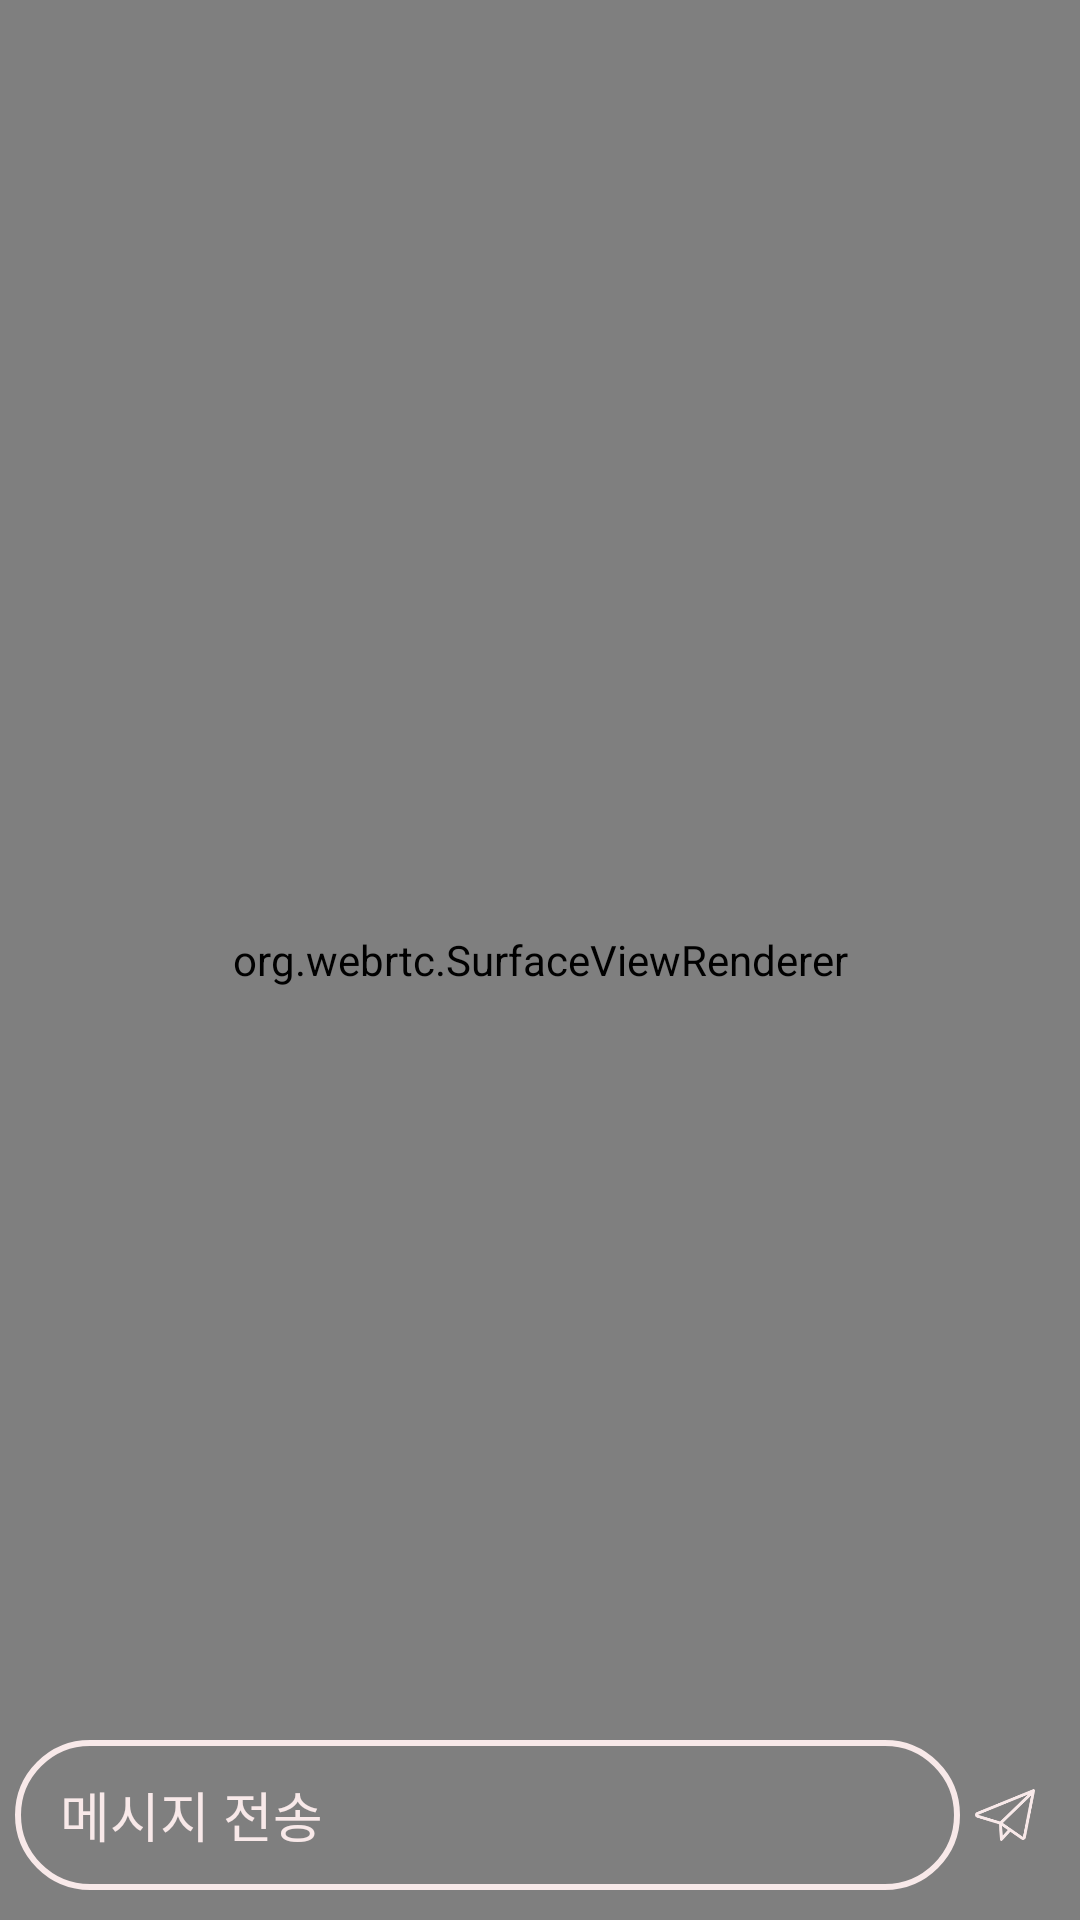

Screen size 1080×1920. Icon name, then its center in pixels as (x=x, y=y):
sendbutton: (x=1005, y=1815)
